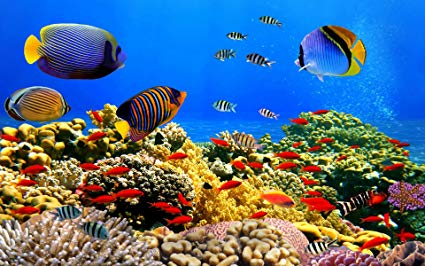fish: (16, 19, 135, 85), (289, 25, 378, 84), (115, 85, 196, 137), (2, 86, 85, 122), (205, 98, 252, 117)
